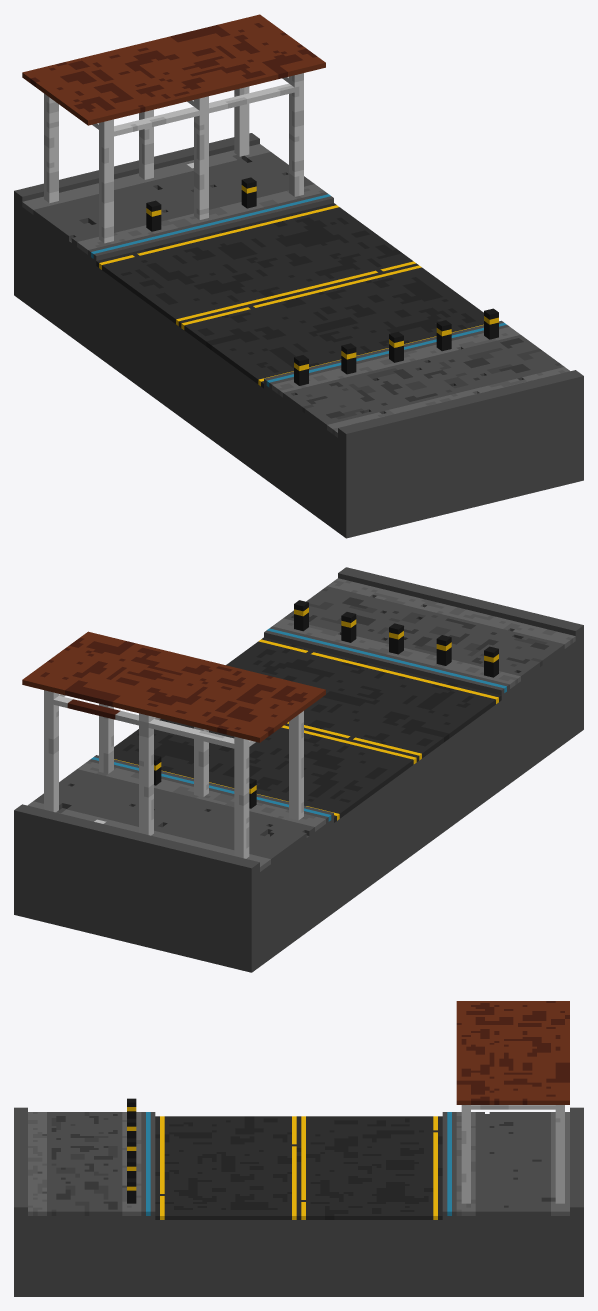
The model's file is Road5.obj.
The picture shows the model from 3 angles, top to bottom: view 1: azimuth 30°, elevation 25°; view 2: azimuth 150°, elevation 25°; view 3: azimuth 270°, elevation 25°; orthographic projection. The views are drawn at different scales.
Bounding box in the file's own units: 50 × 46 × 121.
1 material, 1 textured.
